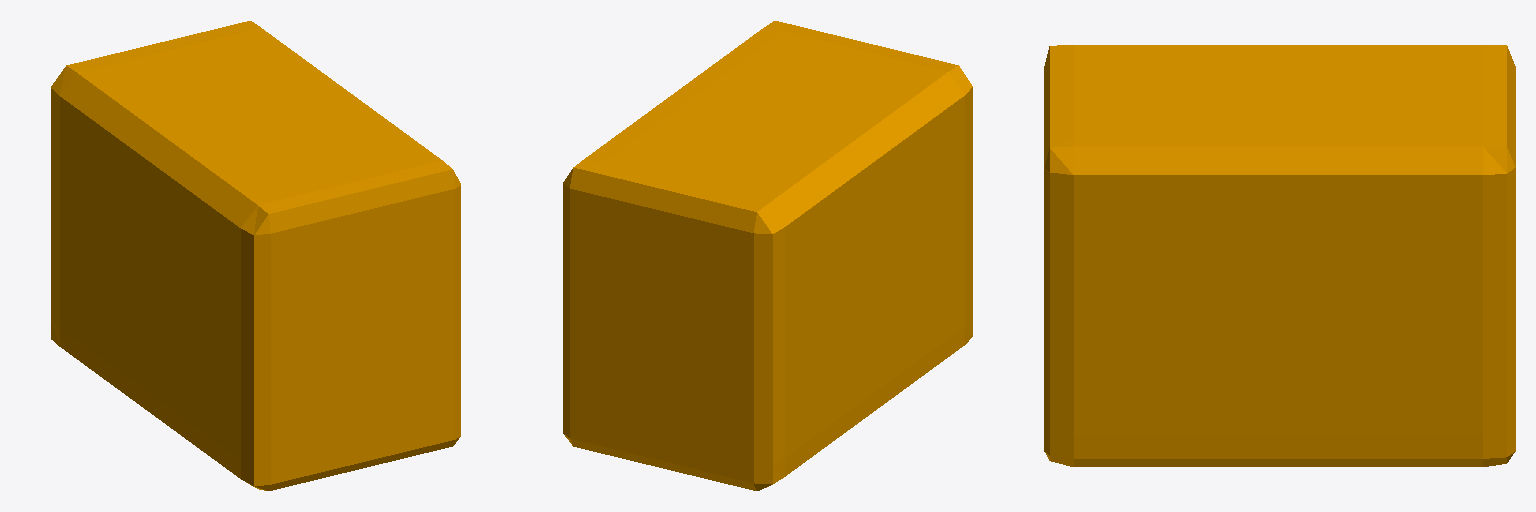
robot.urdf — cylinder_box_103:
<?xml version="1.0" encoding="utf-8"?>  <robot name="cylinder_box_103">   <link name="cylinder_box_103">     <visual>       <geometry>         <mesh filename="../meshes/box/box_103.stl" scale="1 1 1"/>       </geometry>     </visual>     <collision>       <geometry>         <mesh filename="../meshes/box/box_103.stl" scale="1 1 1"/>       </geometry>     </collision>     <inertial>        <origin         xyz="0 0 0"         rpy="0 0 0" />       <mass value="0.41396784776862966"/>       <origin rpy="0 0 0" xyz="0 0 0"/>       <inertia ixx="0.0005091521455376567" ixy="-7.190623241463908e-08" ixz="-2.6277660686648992e-08" iyy="0.0002981897210293809" iyz="1.4983463796936976e-07" izz="0.00044135488542148497"/>     </inertial>   </link>  </robot>

--- Facts derived from the render (not from the file) ---
3 views of the same robot in one strip: view 1: azimuth 30°, elevation 25°; view 2: azimuth 150°, elevation 25°; view 3: azimuth 270°, elevation 25° (orthographic).
Model cylinder_box_103 with 1 links and 0 joints (none), rooted at cylinder_box_103, posed every joint at zero.
Links seen in each view (by area): view 1: cylinder_box_103; view 2: cylinder_box_103; view 3: cylinder_box_103.
Boxes of the visible links, box(x1,y1,x2,y2) form: cylinder_box_103: box(51, 21, 460, 490); cylinder_box_103: box(563, 21, 972, 490); cylinder_box_103: box(1044, 45, 1515, 466).
Bounding box of the posed robot: 0.0584 × 0.0978 × 0.0736 m (x, y, z).
Meshes: 1 distinct files referenced, 1 mesh visuals loaded (1 binary STL).